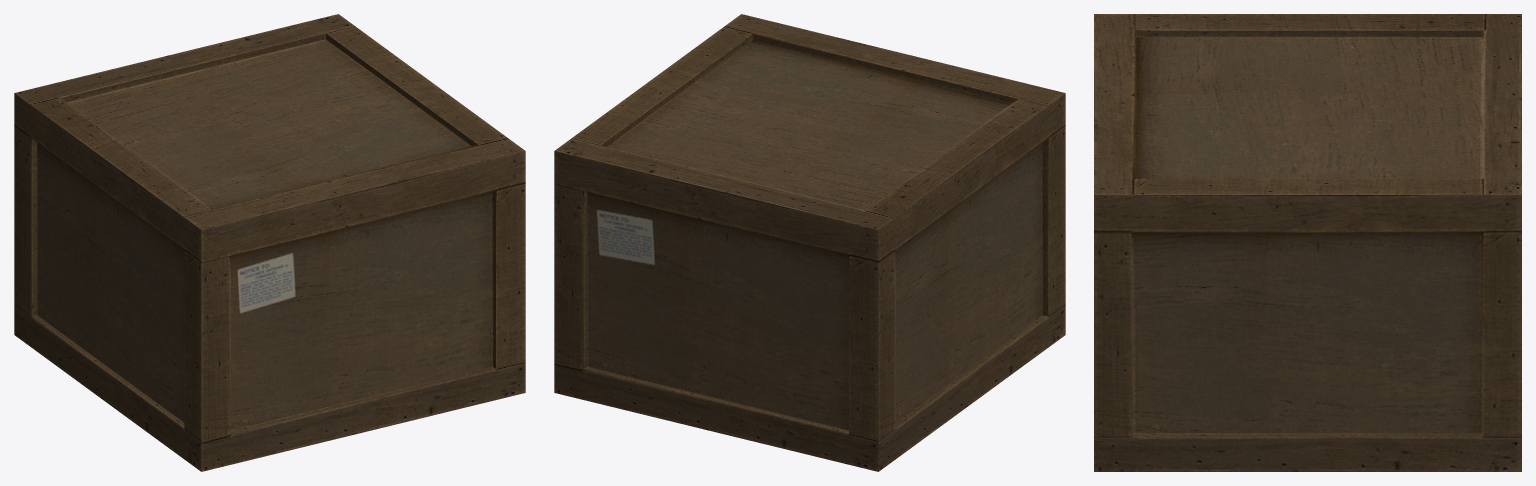
Rendered from wooden_crate_hx_6_1.obj.
3 views of the same model, side by side, from view 1: azimuth 30°, elevation 25°; view 2: azimuth 150°, elevation 25°; view 3: azimuth 270°, elevation 25° (orthographic). The views are drawn at different scales.
Parts seen in each view (by area): view 1: wooden_crate_hx_6_1; view 2: wooden_crate_hx_6_1; view 3: wooden_crate_hx_6_1.
Part boxes in pixels (<box>): wooden_crate_hx_6_1: <box>14,14,525,471</box>; wooden_crate_hx_6_1: <box>554,14,1065,471</box>; wooden_crate_hx_6_1: <box>1094,14,1521,471</box>.
Bounding box in the file's own units: 1.4 × 1 × 1.4.
